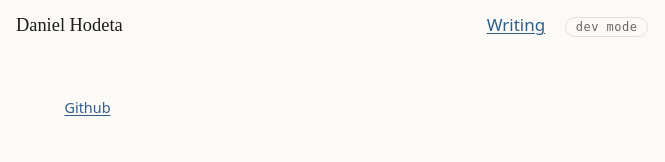
Test: PublicLayout › dev toggle reveals tech chips inline
Expected: the text "ts, aws" is not shown
Click the button "dev mode".
click(607, 27)  # box left=565, top=17, right=648, bottom=37
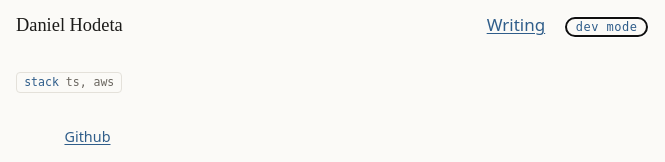
Expected: the list item "stack ts, aws" is shown, left=16, top=72, right=122, bottom=93
